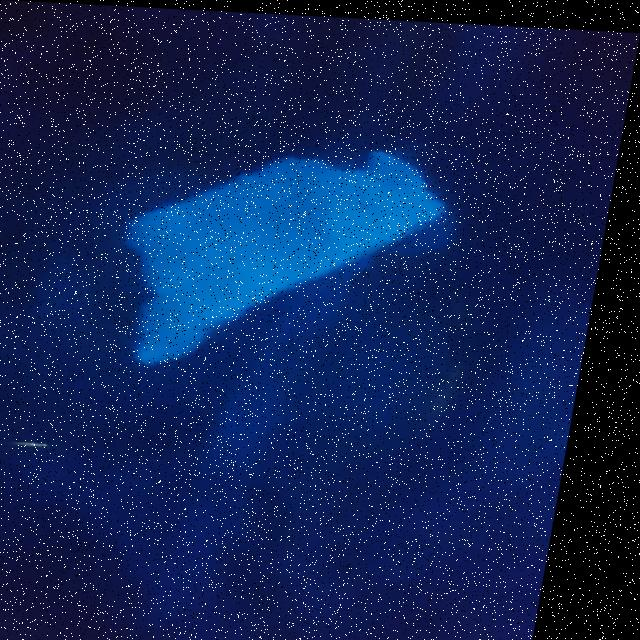thermocoal: (54, 123, 482, 397)
